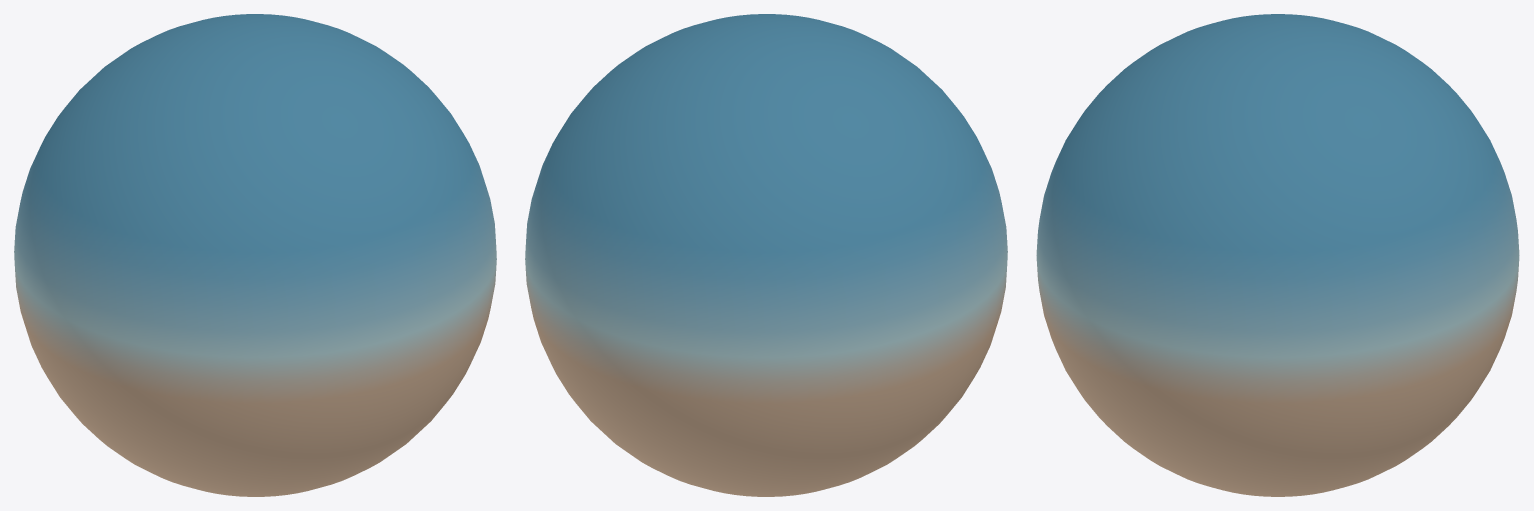
Rendered from canyon-stylise.glb.
3 views of the same model, side by side, from view 1: azimuth 30°, elevation 25°; view 2: azimuth 150°, elevation 25°; view 3: azimuth 270°, elevation 25° (orthographic).
Visible parts, largest first — view 1: CanyonSky; view 2: CanyonSky; view 3: CanyonSky.
Part boxes in pixels (x1=…): CanyonSky: x1=14, y1=14, x2=496, y2=496; CanyonSky: x1=525, y1=14, x2=1007, y2=496; CanyonSky: x1=1036, y1=14, x2=1519, y2=496.
Size of the model in its own units: 176 by 176 by 176.
